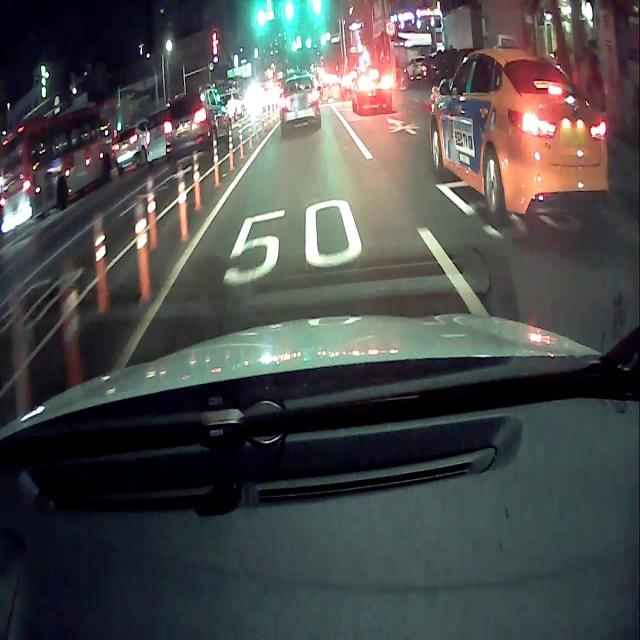Green Light: (284, 2, 295, 24), (256, 10, 266, 30), (312, 0, 322, 16)
